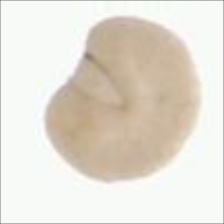L5: (69, 52, 128, 109)
L6: (41, 14, 202, 184)
